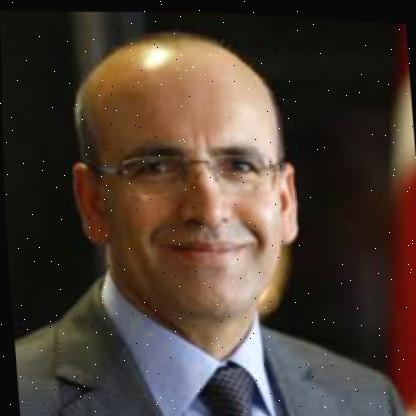person: (60, 18, 310, 339)
